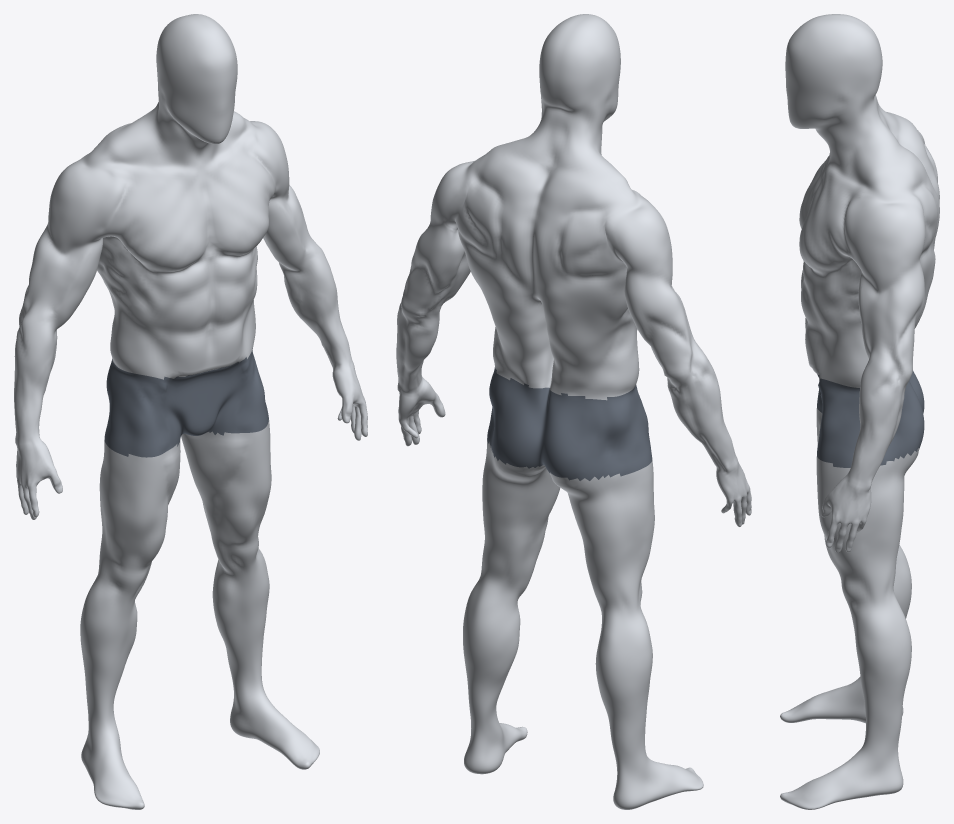
Rendered from anatomia.fbx.
3 renders of one model, left to right at view 1: azimuth 30°, elevation 25°; view 2: azimuth 150°, elevation 25°; view 3: azimuth 270°, elevation 25°, orthographic.
Parts seen in each view (by area): view 1: Anatomia; view 2: Anatomia; view 3: Anatomia.
Part boxes in pixels (x1,y1,x2,y2): Anatomia: [14, 14, 367, 809]; Anatomia: [396, 14, 751, 809]; Anatomia: [780, 14, 939, 809].
Bounding box in the file's own units: 0.8531 × 1.8 × 0.3501.
